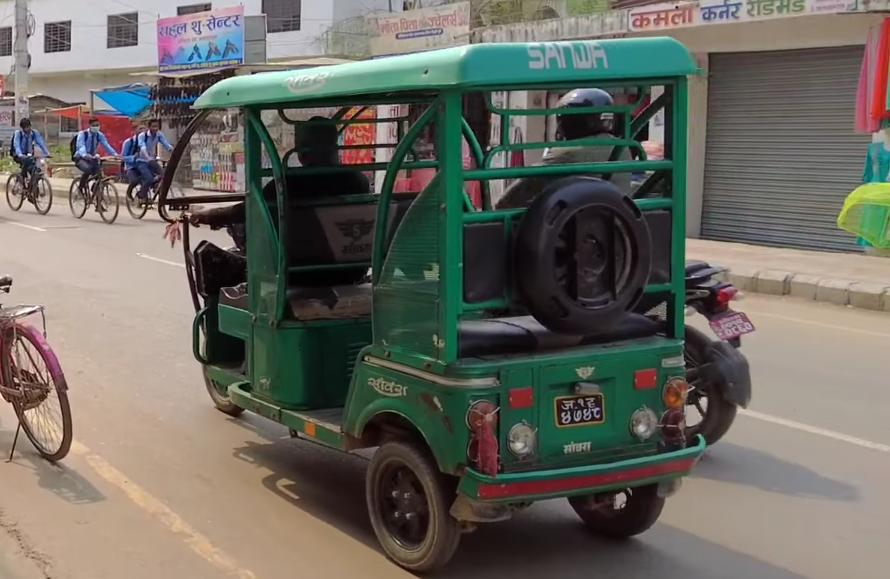e-rickshaw: (158, 23, 705, 578)
